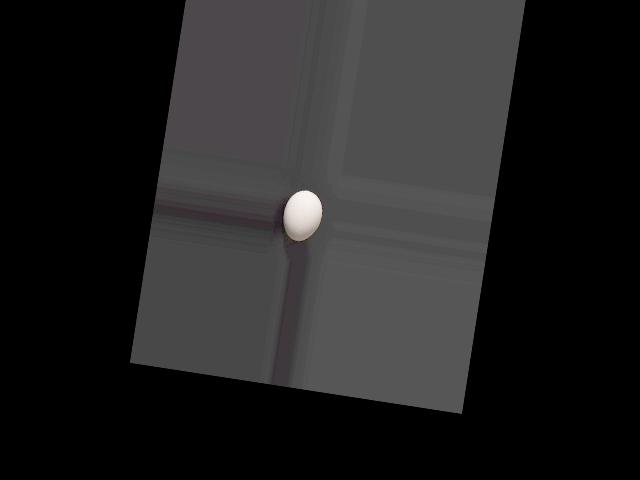egg: (280, 187, 324, 243)
